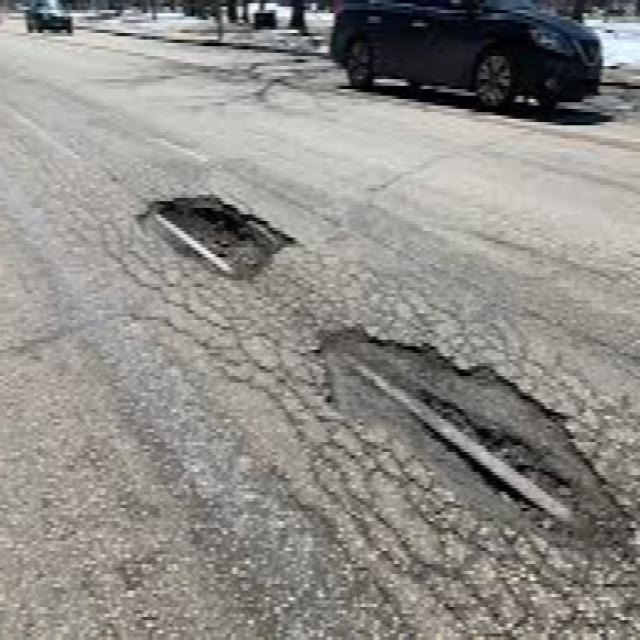Pothole: (314, 315, 638, 553), (131, 186, 301, 288)
